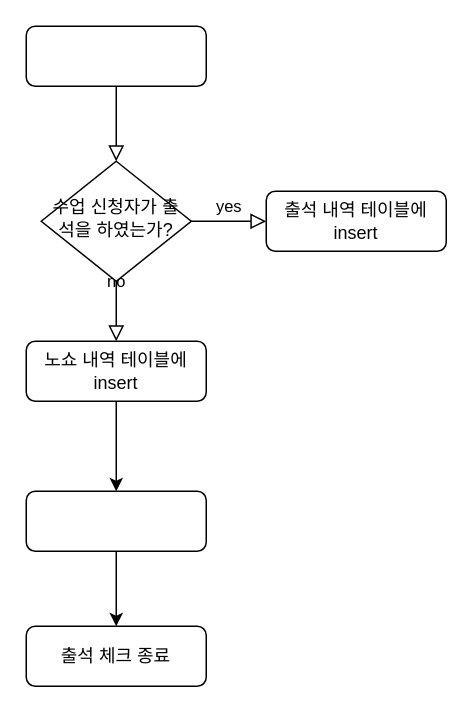
Some shapes in this 473 by 713 pixel diagram are drawn without their labels. Here are the shapes that lost their labels. From the top down, the centre of each, then its label:
the point at 115,55: 강사의 출석 체크 시작
the point at 115,520: 회원권 3일간 수업신청 불가 상태로 전환
